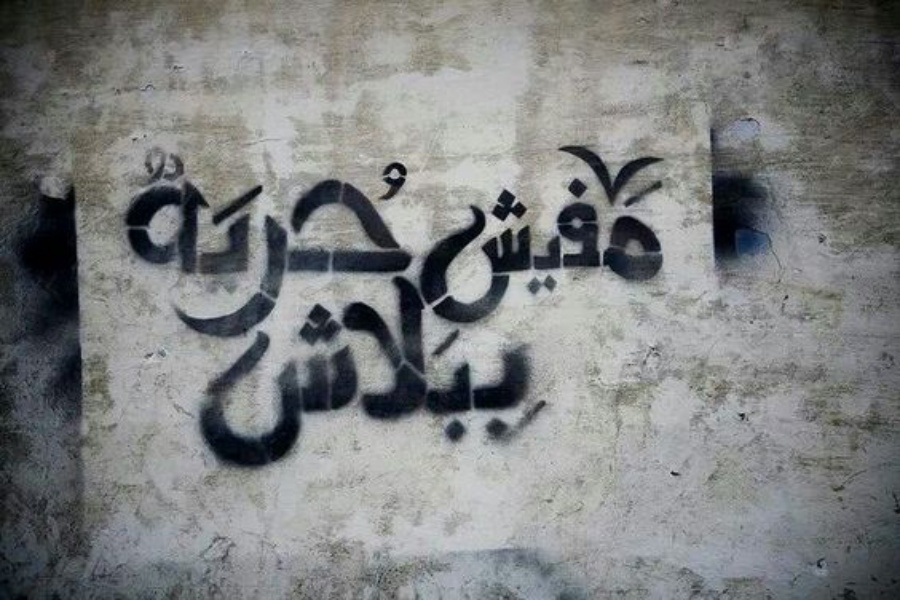text: (209, 275, 224, 468), (225, 275, 240, 468), (241, 275, 256, 468), (257, 275, 272, 468), (273, 275, 288, 468), (289, 275, 304, 468), (305, 275, 320, 468), (321, 275, 336, 468), (337, 275, 352, 468), (353, 275, 368, 468), (369, 275, 384, 468), (385, 275, 400, 468), (401, 275, 416, 468), (417, 275, 432, 468), (433, 275, 448, 468), (449, 275, 464, 468), (465, 275, 480, 468), (481, 275, 496, 468), (497, 275, 512, 468), (513, 275, 528, 468), (129, 146, 144, 337), (145, 146, 160, 337), (161, 146, 176, 337), (177, 146, 192, 337), (193, 146, 208, 337), (209, 146, 224, 337), (225, 146, 240, 337), (241, 146, 256, 337), (257, 146, 272, 337), (273, 146, 288, 337), (289, 146, 304, 337), (305, 146, 320, 337), (321, 146, 336, 337), (337, 146, 352, 337), (353, 146, 368, 337), (369, 146, 384, 337), (385, 146, 400, 337), (433, 141, 448, 324), (449, 141, 464, 324), (465, 141, 480, 324), (481, 141, 496, 324), (497, 141, 512, 324), (513, 141, 528, 324), (529, 141, 544, 324), (545, 141, 560, 324), (561, 141, 576, 324), (577, 141, 592, 324), (593, 141, 608, 324), (609, 141, 624, 324), (625, 141, 640, 324), (641, 141, 656, 324), (401, 146, 414, 337), (422, 141, 432, 324), (200, 275, 208, 468), (657, 141, 664, 324), (529, 275, 532, 468), (125, 146, 128, 337)
